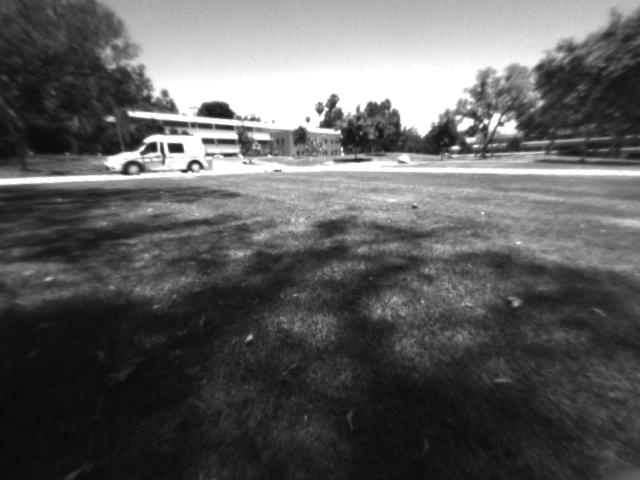dogtoy: (404, 195, 426, 213)
